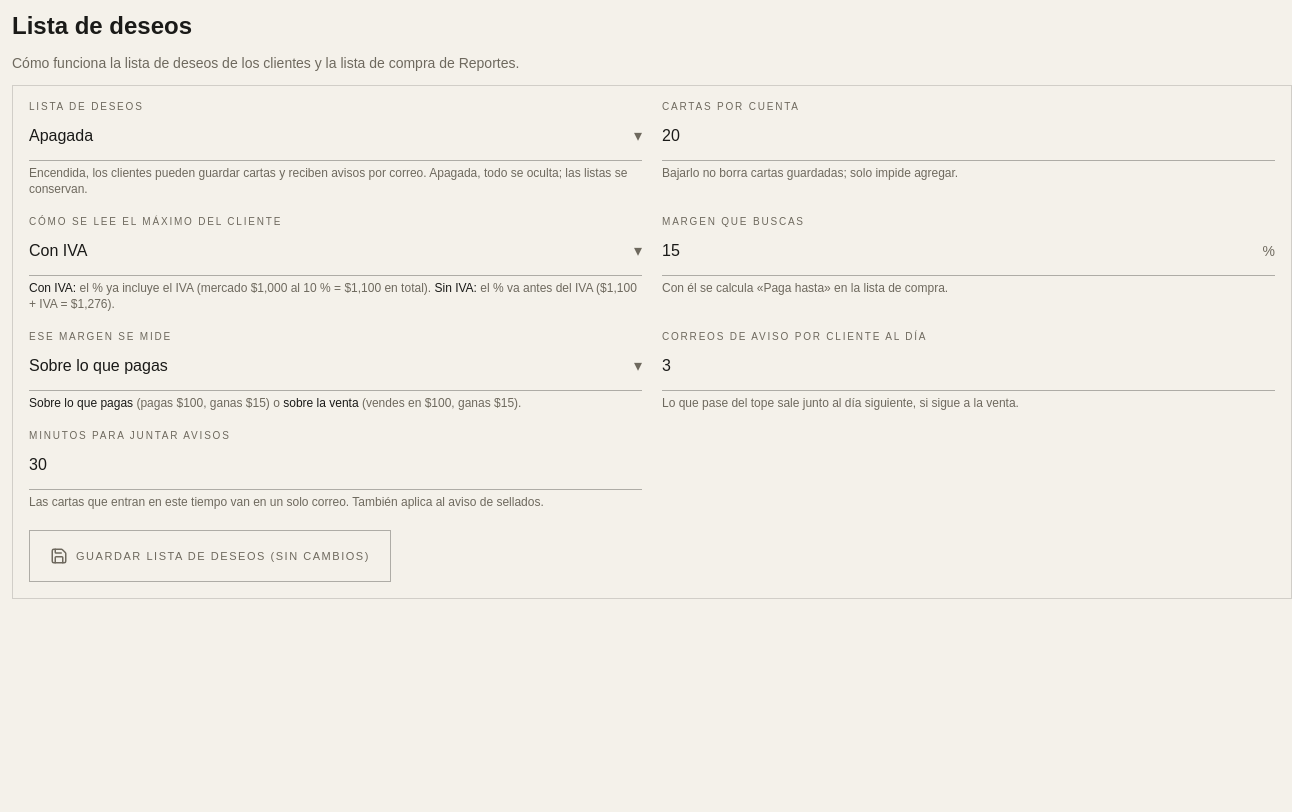
Test case: §WSH-UX.9 · diales de la lista de deseos › `422 VALIDATION_ERROR` por clave ⇒ el campo marcado, sin el texto del servidor
Replace the text in the field labelled "Cartas por cuenta" with "999": (968, 136) [662,124,1275,148]
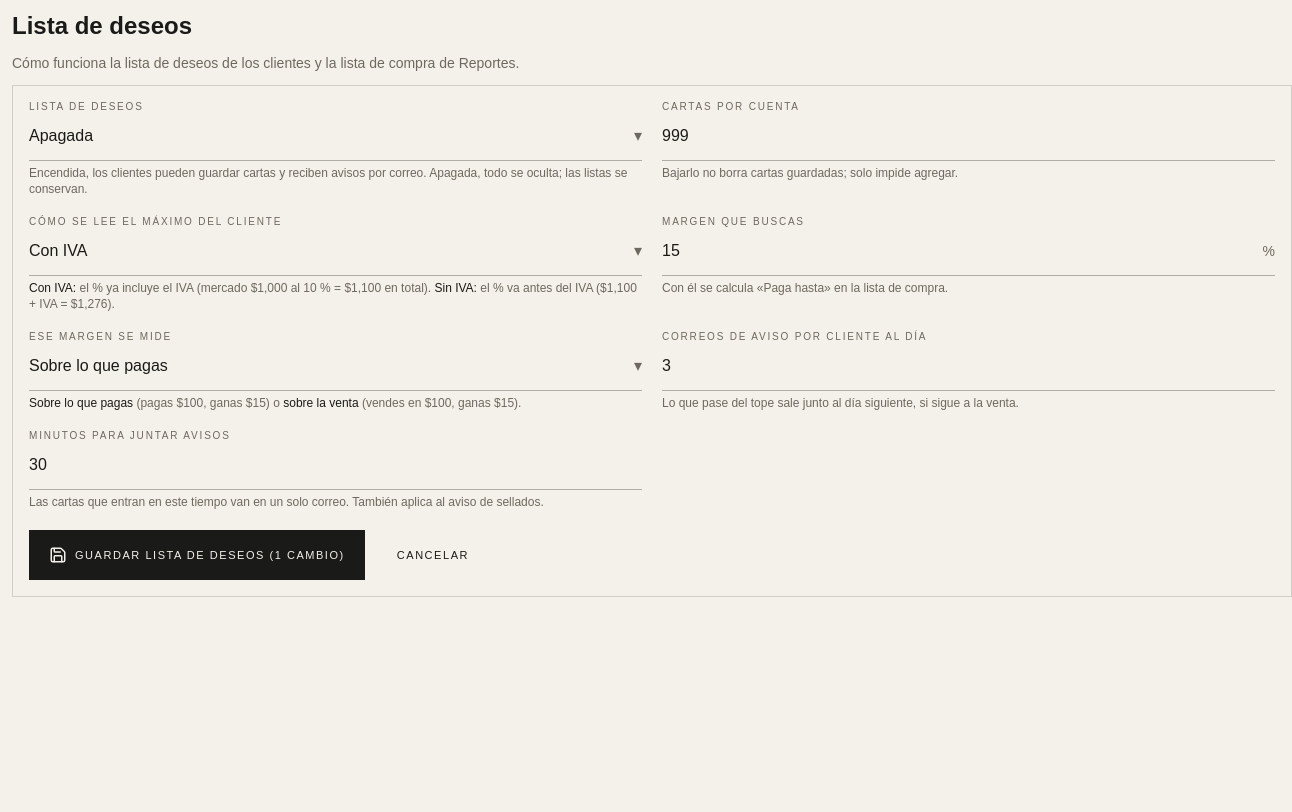
Click the button with test id "m10-wishlist-save": (197, 555) [29,530,365,580]
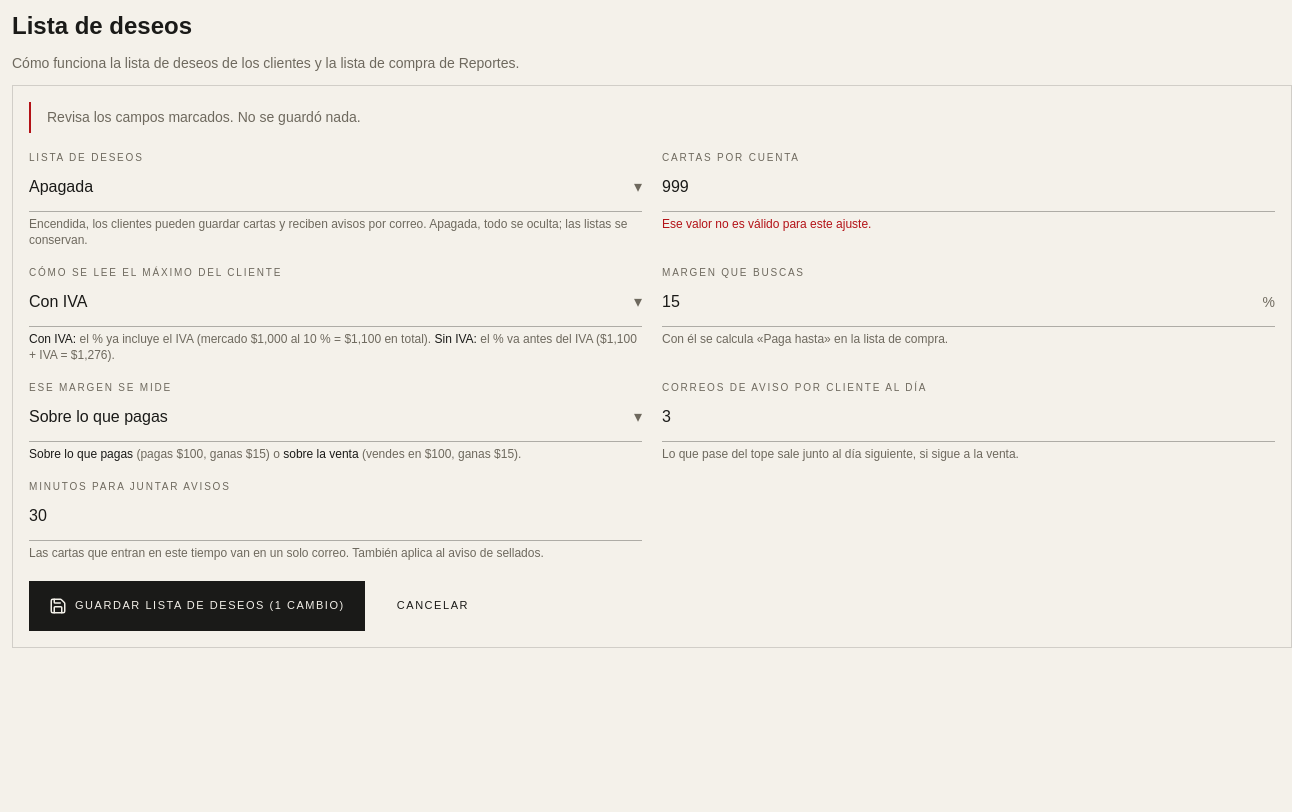
Expected: the text "Revisa los campos marcados. No se guardó nada." is shown, [47,109,361,125]
Expected: the text "Ese valor no es válido para este ajuste." is shown, [662,216,872,230]
